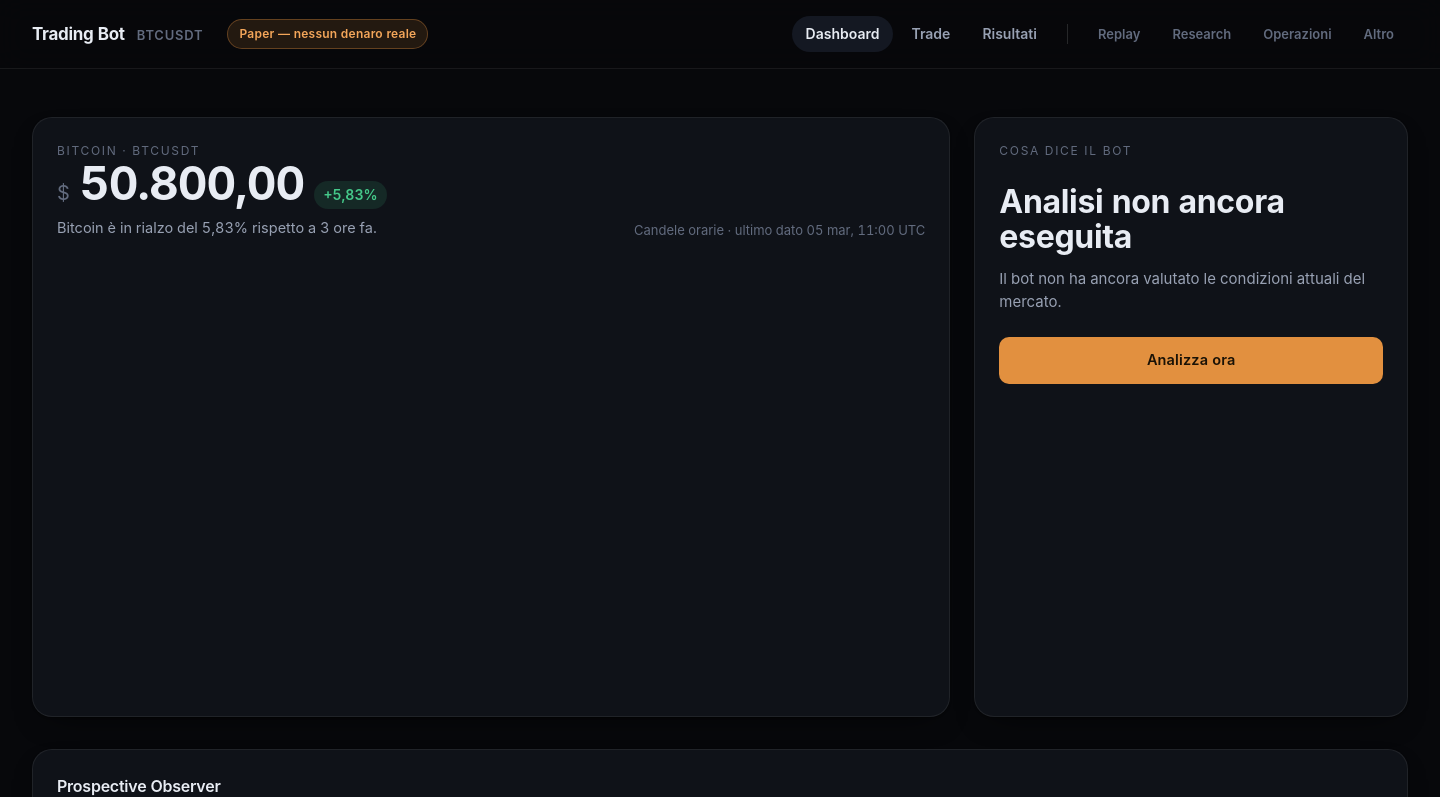
Scenario: Research Lab › mostra avanzamento frazionario solo dalle unità reali fornite dal backend
Expected: the text "Analisi non ancora eseguita" is shown, [999,182,1285,256]
Click the button "Research".
click(1202, 34)  # box [1158,17,1245,51]
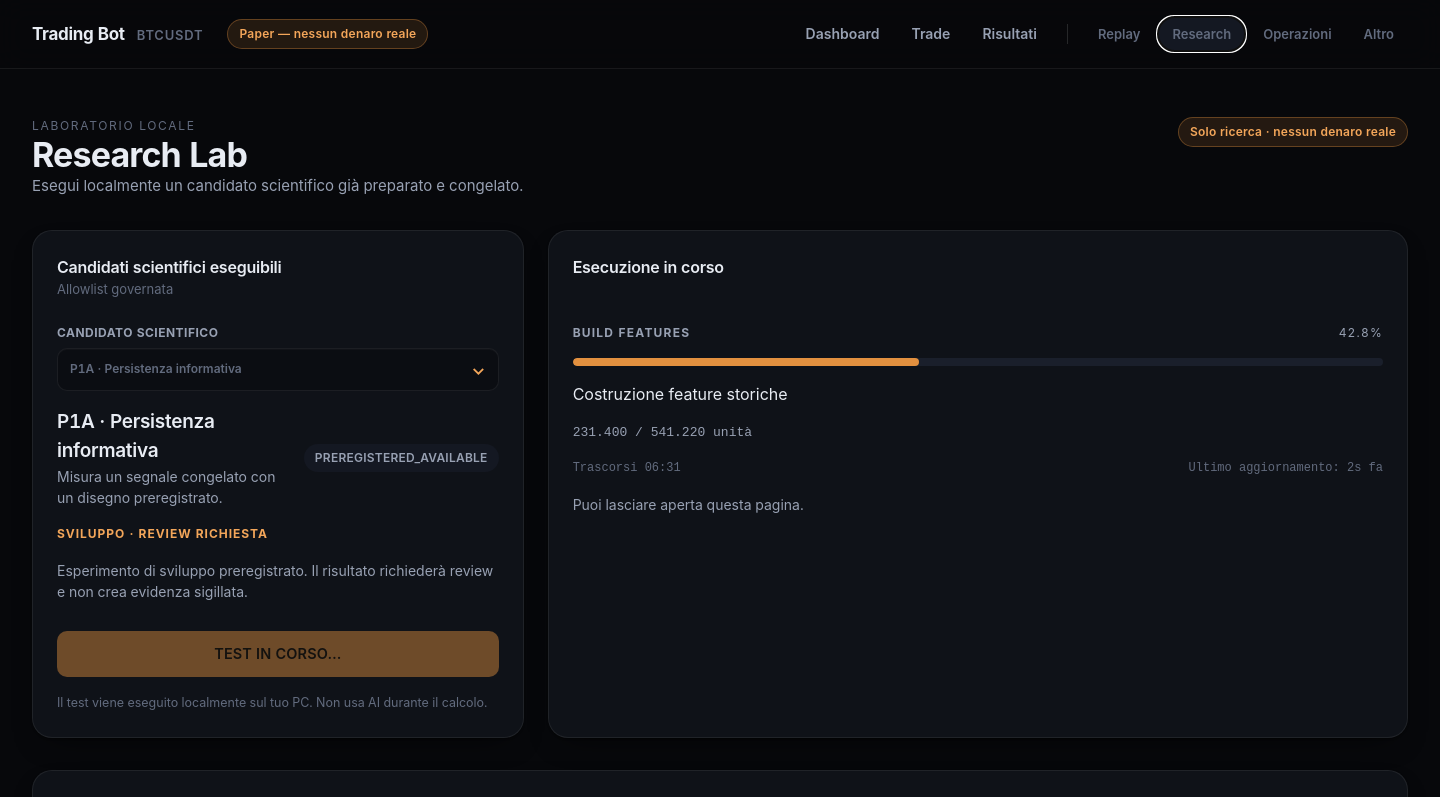
Now the text "42.8%" is shown, box [1339,324,1383,342]
Now the text "Costruzione feature storiche" is shown, box [573,384,788,404]
Now the text "231.400 / 541.220 unità" is shown, box [573,425,752,440]
